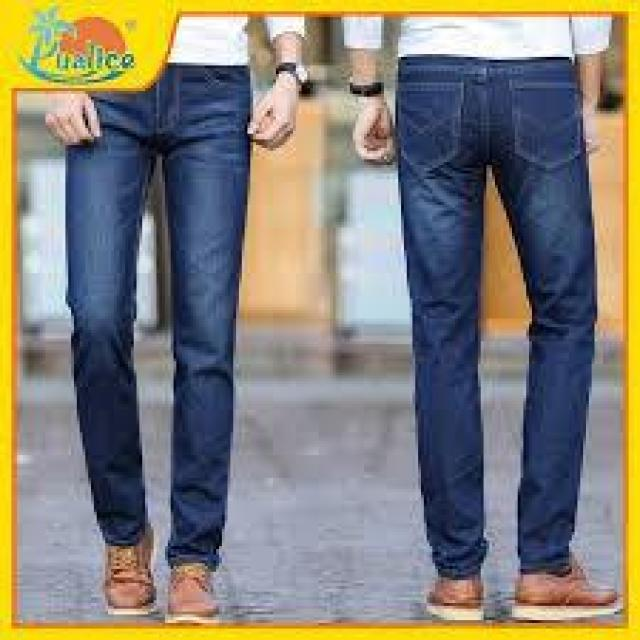pants: (394, 49, 604, 578), (61, 56, 258, 564)
